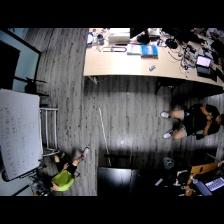normal: (160, 105, 224, 142), (48, 145, 89, 190)
